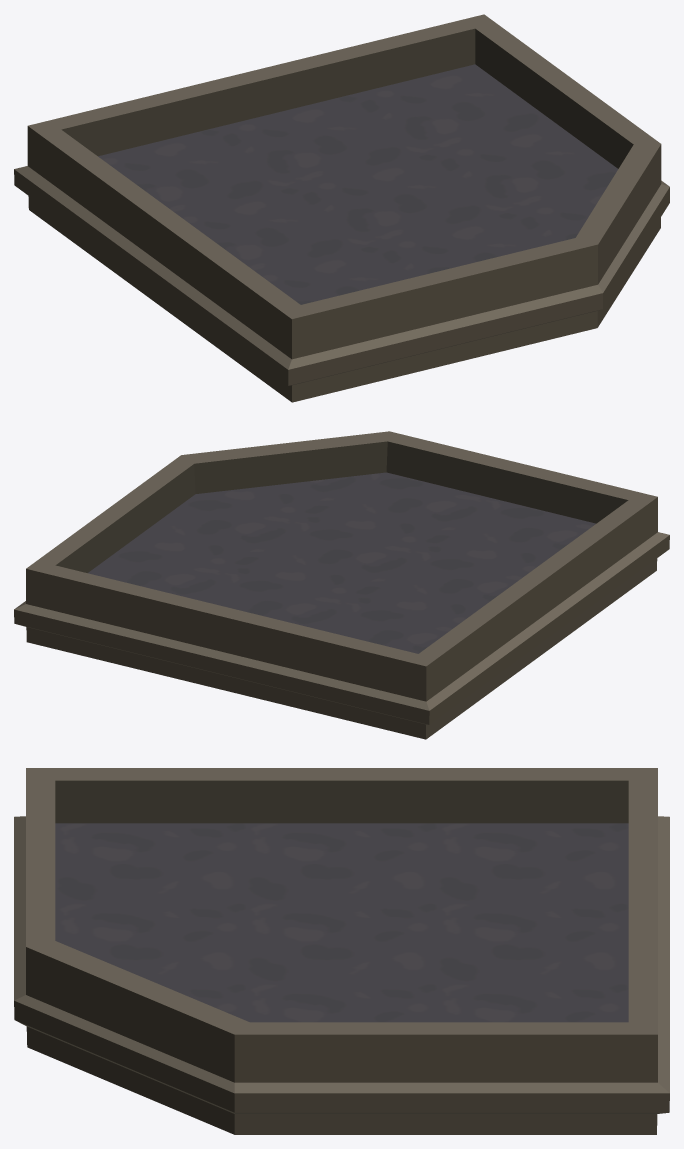
The model's file is RoofTop_C05.fbx.
3 views of the same model, one above another, from view 1: azimuth 30°, elevation 25°; view 2: azimuth 150°, elevation 25°; view 3: azimuth 270°, elevation 25° (orthographic). The views are drawn at different scales.
Visible parts, largest first — view 1: RoofTop_C05; view 2: RoofTop_C05; view 3: RoofTop_C05.
Boxes of the visible parts, box(x1,y1,x2,y2) form: RoofTop_C05: box(14, 14, 669, 402); RoofTop_C05: box(14, 431, 669, 739); RoofTop_C05: box(14, 768, 669, 1134).
Size of the model in its own units: 638 by 108 by 639.
